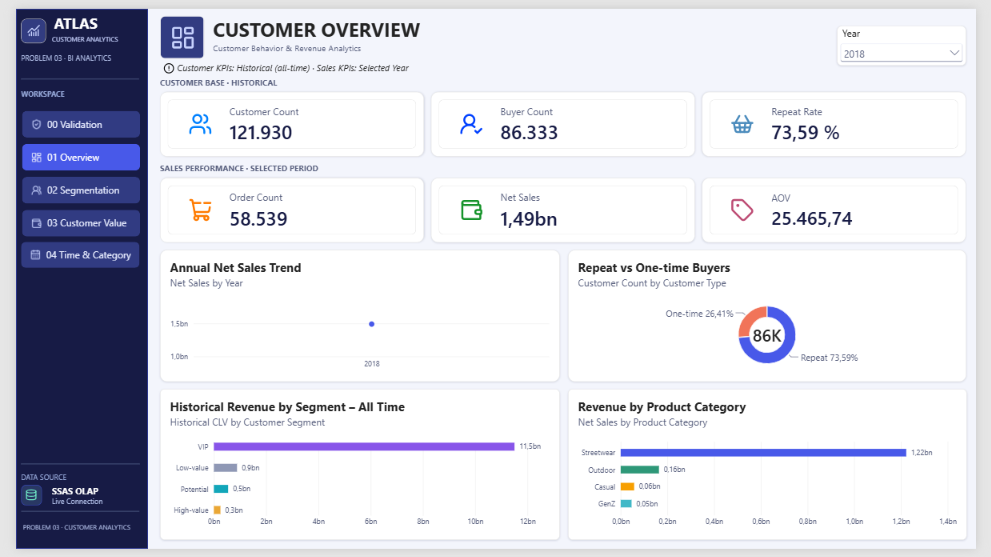

This screenshot's page, from the dashboard's own definition file:
{"tool":"powerbi","page":{"name":"01_Customer_Overview","canvas":[1600,900],"ordinal":1},"visuals":[{"type":"shape","box":[0,0,220,900],"z":0,"group":"g2"},{"type":"shape","box":[240,12.2,74,72],"z":0,"group":"g1"},{"type":"textbox","box":[328,12.2,382,52],"z":0,"group":"g3"},{"type":"image","box":[241.7,90,26.7,18.3],"z":0,"group":"g4"},{"type":"textbox","box":[62.7,9.2,144.4,34.4],"z":1000,"group":"g2"},{"type":"image","box":[254.8,26.6,46.9,43.2],"z":1000,"group":"g1"},{"type":"textbox","box":[328,55.2,736,22],"z":1000,"group":"g3"},{"type":"textbox","box":[268.4,88.3,500,25],"z":1000,"group":"g4"},{"type":"cardVisual","fields":{"Data":["V FACT ORDER OFFICIAL.Order Count"]},"box":[240,281.1,440,108],"z":1000},{"type":"group","id":"g1","title":"Group 2","box":[240,12.2,74,72],"z":2000,"group":"g3"},{"type":"cardVisual","fields":{"Data":["V FACT CUSTOMER ANALYTICS.Buyer Count"]},"box":[692,139.1,440,108],"z":2000},{"type":"actionButton","box":[9.3,170.4,196.9,44.7],"z":2000,"group":"g2"},{"type":"cardVisual","fields":{"Data":["V FACT CUSTOMER ANALYTICS.Customer Count"]},"box":[240,139.1,440,108],"z":3000},{"type":"actionButton","box":[8.9,389,197.7,43.5],"z":3000,"group":"g2"},{"type":"actionButton","box":[9.3,280.2,196.9,44.7],"z":4000,"group":"g2"},{"type":"cardVisual","fields":{"Data":["V FACT SALES LINE OFFICIAL.Net Sales"]},"box":[692,281.1,440,108],"z":4000},{"type":"cardVisual","fields":{"Data":["V FACT CUSTOMER MONTHLY OFFICIAL.AOV"]},"box":[1144,281.1,440,108],"z":5000},{"type":"actionButton","box":[9.3,335.1,196.9,44.7],"z":5000,"group":"g2"},{"type":"cardVisual","fields":{"Data":["Measures.Repeat Rate"]},"box":[1144,139.1,440,108],"z":6000},{"type":"actionButton","box":[9.3,225.3,196.9,44.7],"z":6000,"group":"g2"},{"type":"shape","box":[8.5,16.4,41.2,40.5],"z":7000,"group":"g2"},{"type":"lineChart","title":"Annual Net Sales Trend","fields":{"Category":["Date.Year"],"Y":["V FACT SALES LINE OFFICIAL.Net Sales"]},"box":[240,402,666,220],"z":7000},{"type":"image","box":[17.8,25.5,22.7,22.3],"z":8000,"group":"g2"},{"type":"donutChart","title":"Repeat vs One-time Buyers","fields":{"Category":["Customer.Customer Type"],"Y":["V FACT CUSTOMER ANALYTICS.Customer Count"]},"box":[920,402,664,220],"z":8000},{"type":"textbox","box":[60.3,40.1,139.2,21.7],"z":9000,"group":"g2"},{"type":"clusteredBarChart","title":"Historical Revenue by Segment – All Time","fields":{"Category":["Customer.Customer Segment"],"Y":["V FACT CUSTOMER ANALYTICS.Historical CLV"]},"box":[240,634,666,252],"z":9000},{"type":"textbox","box":[8.9,71.8,197.8,23],"z":10000,"group":"g2"},{"type":"clusteredBarChart","title":"Revenue by Product Category","fields":{"Category":["Product.Category"],"Y":["V FACT SALES LINE OFFICIAL.Net Sales"]},"box":[920,634,665,251.7],"z":10000},{"type":"slicer","fields":{"Values":["Date.Year"]},"box":[1368.3,28.3,215.6,66.7],"z":11000},{"type":"shape","box":[8.5,109.6,196.9,13.8],"z":11000,"group":"g2"},{"type":"group","id":"g2","title":"Group 1","box":[0,0,220,900],"z":12000},{"type":"textbox","box":[8.5,131.9,191.8,20.3],"z":12000,"group":"g2"},{"type":"textbox","box":[240,114.1,700,20],"z":13000},{"type":"shape","box":[8.5,748,198,20.3],"z":13000,"group":"g2"},{"type":"textbox","box":[240,255.8,700,20],"z":14000},{"type":"textbox","box":[8.5,770.3,175.3,20.3],"z":14000,"group":"g2"},{"type":"group","id":"g3","title":"Group 3","box":[240,12.2,823.3,71.7],"z":15000},{"type":"shape","box":[8.5,793.6,35.1,34.5],"z":15000,"group":"g2"},{"type":"group","id":"g4","title":"Group 4","box":[241.7,88.3,526.7,25],"z":16000},{"type":"image","box":[15.7,800.7,20.6,20.3],"z":16000,"group":"g2"},{"type":"textbox","box":[59.6,793.6,123.7,27],"z":17000,"group":"g2"},{"type":"textbox","box":[59.6,810.5,122,18.6],"z":18000,"group":"g2"},{"type":"shape","box":[9.2,832.4,197.7,11.8],"z":19000,"group":"g2"},{"type":"textbox","box":[10.9,852.7,195.9,20.3],"z":20000,"group":"g2"}]}

Visuals, with their boxes on the page's 1600x900 design canvas (x1, y1, x2, y2). These are canvas units, not pixel positions in the 991x557 screenshot, which may show the page scaled, cropped or inside an application window:
shape: l=0, t=0, r=220, b=900
shape: l=240, t=12, r=314, b=84
textbox: l=328, t=12, r=710, b=64
image: l=242, t=90, r=268, b=108
textbox: l=63, t=9, r=207, b=44
image: l=255, t=27, r=302, b=70
textbox: l=328, t=55, r=1064, b=77
textbox: l=268, t=88, r=768, b=113
cardVisual - V FACT ORDER OFFICIAL.Order Count: l=240, t=281, r=680, b=389
"Group 2" group: l=240, t=12, r=314, b=84
cardVisual - V FACT CUSTOMER ANALYTICS.Buyer Count: l=692, t=139, r=1132, b=247
actionButton: l=9, t=170, r=206, b=215
cardVisual - V FACT CUSTOMER ANALYTICS.Customer Count: l=240, t=139, r=680, b=247
actionButton: l=9, t=389, r=207, b=432
actionButton: l=9, t=280, r=206, b=325
cardVisual - V FACT SALES LINE OFFICIAL.Net Sales: l=692, t=281, r=1132, b=389
cardVisual - V FACT CUSTOMER MONTHLY OFFICIAL.AOV: l=1144, t=281, r=1584, b=389
actionButton: l=9, t=335, r=206, b=380
cardVisual - Measures.Repeat Rate: l=1144, t=139, r=1584, b=247
actionButton: l=9, t=225, r=206, b=270
shape: l=8, t=16, r=50, b=57
"Annual Net Sales Trend" lineChart: l=240, t=402, r=906, b=622
image: l=18, t=26, r=40, b=48
"Repeat vs One-time Buyers" donutChart: l=920, t=402, r=1584, b=622
textbox: l=60, t=40, r=200, b=62
"Historical Revenue by Segment – All Time" clusteredBarChart: l=240, t=634, r=906, b=886
textbox: l=9, t=72, r=207, b=95
"Revenue by Product Category" clusteredBarChart: l=920, t=634, r=1585, b=886
slicer - Date.Year: l=1368, t=28, r=1584, b=95
shape: l=8, t=110, r=205, b=123
"Group 1" group: l=0, t=0, r=220, b=900
textbox: l=8, t=132, r=200, b=152
textbox: l=240, t=114, r=940, b=134
shape: l=8, t=748, r=206, b=768
textbox: l=240, t=256, r=940, b=276
textbox: l=8, t=770, r=184, b=791
"Group 3" group: l=240, t=12, r=1063, b=84
shape: l=8, t=794, r=44, b=828
"Group 4" group: l=242, t=88, r=768, b=113
image: l=16, t=801, r=36, b=821
textbox: l=60, t=794, r=183, b=821
textbox: l=60, t=810, r=182, b=829
shape: l=9, t=832, r=207, b=844
textbox: l=11, t=853, r=207, b=873
